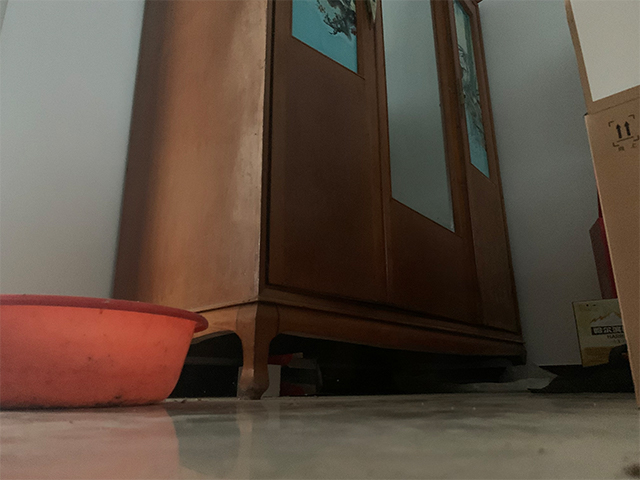cabinet: (109, 1, 529, 401)
